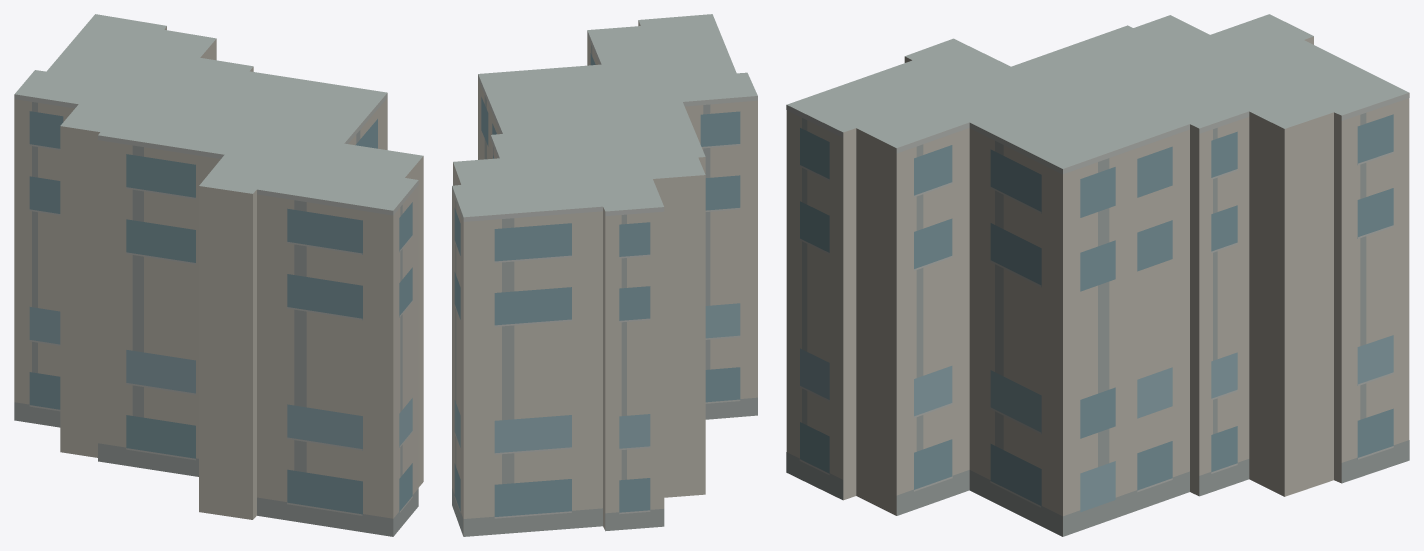
File: survey-upis-32917881.glb
3 views of the same model, side by side, from view 1: azimuth 30°, elevation 25°; view 2: azimuth 150°, elevation 25°; view 3: azimuth 270°, elevation 25° (orthographic). The views are drawn at different scales.
Visible parts, largest first — view 1: survey-upis-32917881.tmp; view 2: survey-upis-32917881.tmp; view 3: survey-upis-32917881.tmp.
Part boxes in pixels (bbox=[...]): survey-upis-32917881.tmp: bbox=[14, 14, 423, 536]; survey-upis-32917881.tmp: bbox=[452, 14, 757, 536]; survey-upis-32917881.tmp: bbox=[786, 14, 1409, 536].
Bounding box in the file's own units: 14.87 × 16.45 × 25.25.
